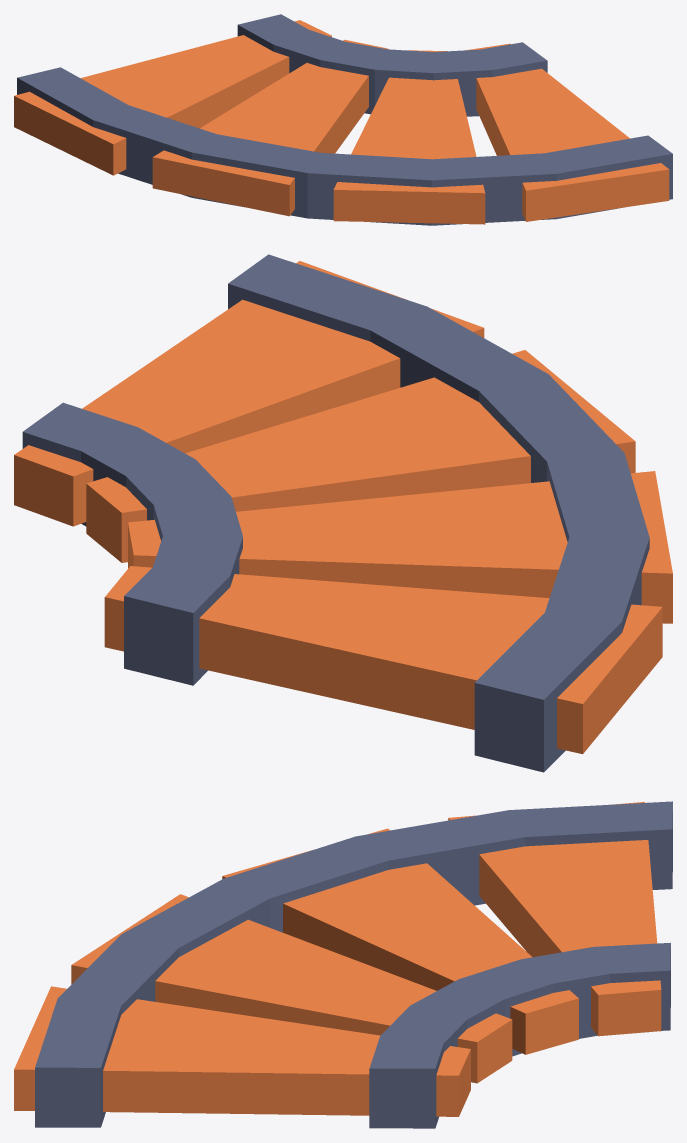
The model's file is Rail_B.fbx.
3 views of the same model, one above another, from view 1: azimuth 30°, elevation 25°; view 2: azimuth 150°, elevation 25°; view 3: azimuth 270°, elevation 25° (orthographic). The views are drawn at different scales.
Visible parts, largest first — view 1: Rail_B; view 2: Rail_B; view 3: Rail_B.
Boxes of the visible parts, box(x1,y1,x2,y2) form: Rail_B: box(14, 14, 672, 225); Rail_B: box(14, 254, 672, 772); Rail_B: box(14, 801, 672, 1128).
Size of the model in its own units: 209 by 21.11 by 211.
